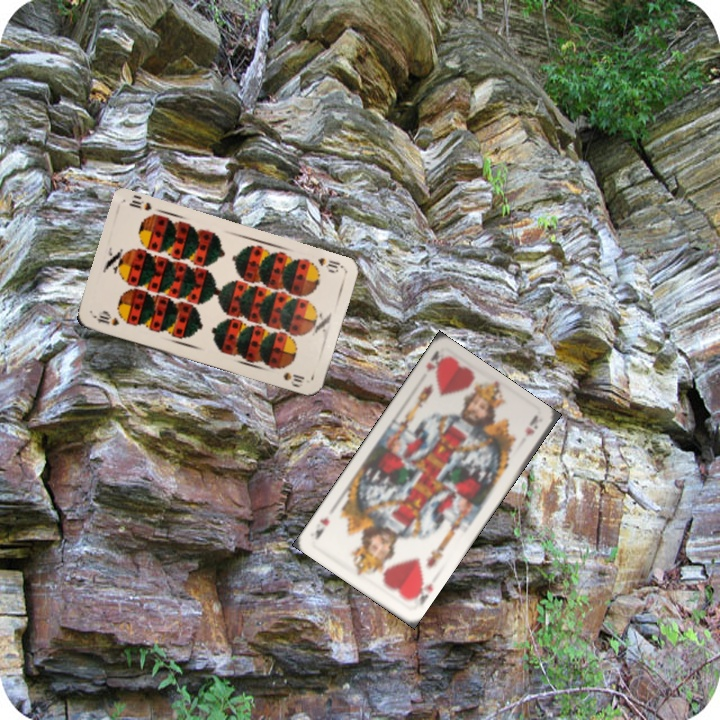HK: (405, 574, 436, 608), (422, 347, 448, 376)
S10: (314, 254, 345, 275), (90, 309, 122, 329)
